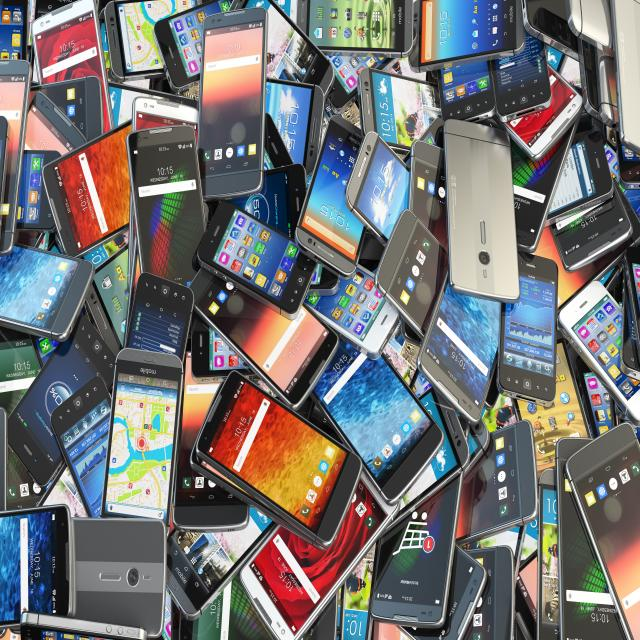heap: (7, 11, 640, 640)
metel: (193, 372, 373, 549), (199, 2, 287, 224), (444, 113, 533, 326), (187, 204, 335, 324), (558, 417, 636, 640), (107, 342, 188, 532), (388, 454, 467, 629), (351, 117, 424, 253)
